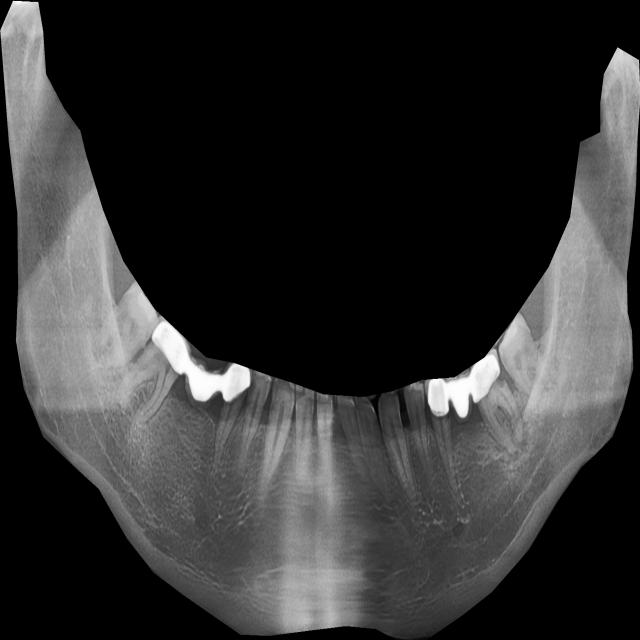mandibula: (0, 0, 640, 640)
